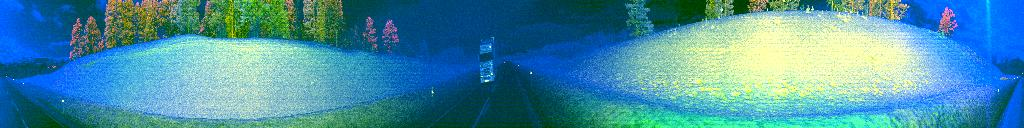pole: (430, 84, 436, 99), (61, 98, 65, 112)
